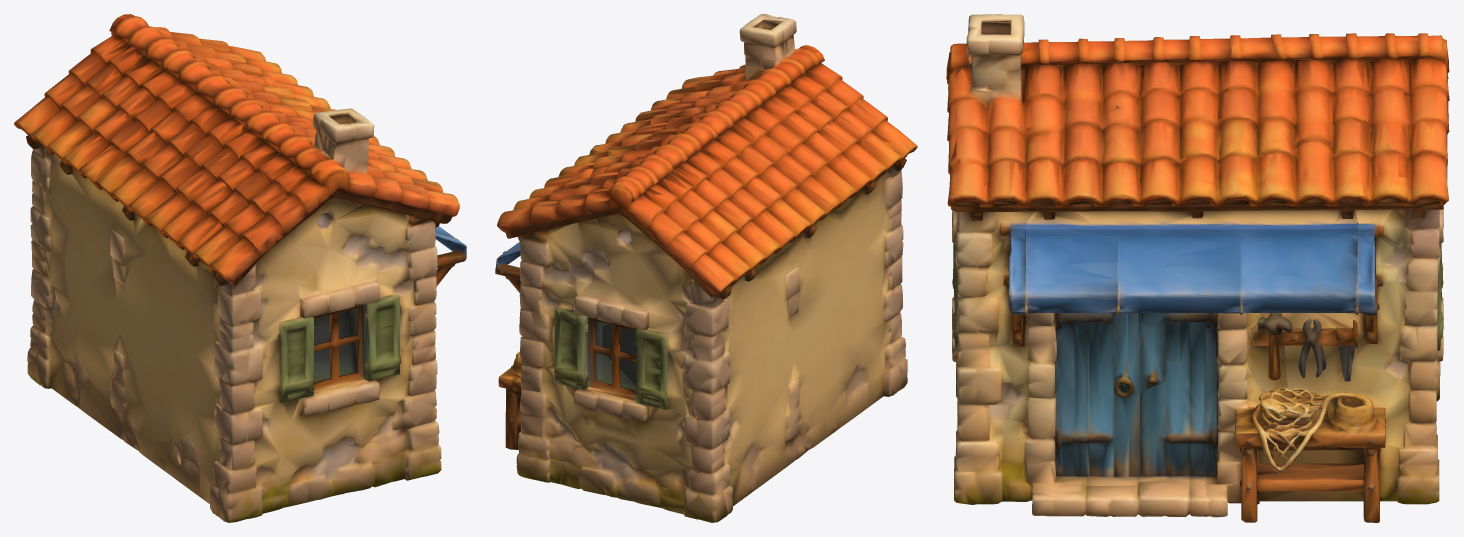
File: Piece13.fbx
The picture shows the model from 3 angles, left to right: view 1: azimuth 30°, elevation 25°; view 2: azimuth 150°, elevation 25°; view 3: azimuth 270°, elevation 25°; orthographic projection. The views are drawn at different scales.
Visible parts, largest first — view 1: Piece13; view 2: Piece13; view 3: Piece13.
Boxes of the visible parts, box(x1,y1,x2,y2) form: Piece13: box(14, 14, 466, 522); Piece13: box(495, 14, 917, 522); Piece13: box(946, 14, 1449, 522).
Size of the model in its own units: 75.85 by 95.18 by 100.
1 material, 1 textured.
